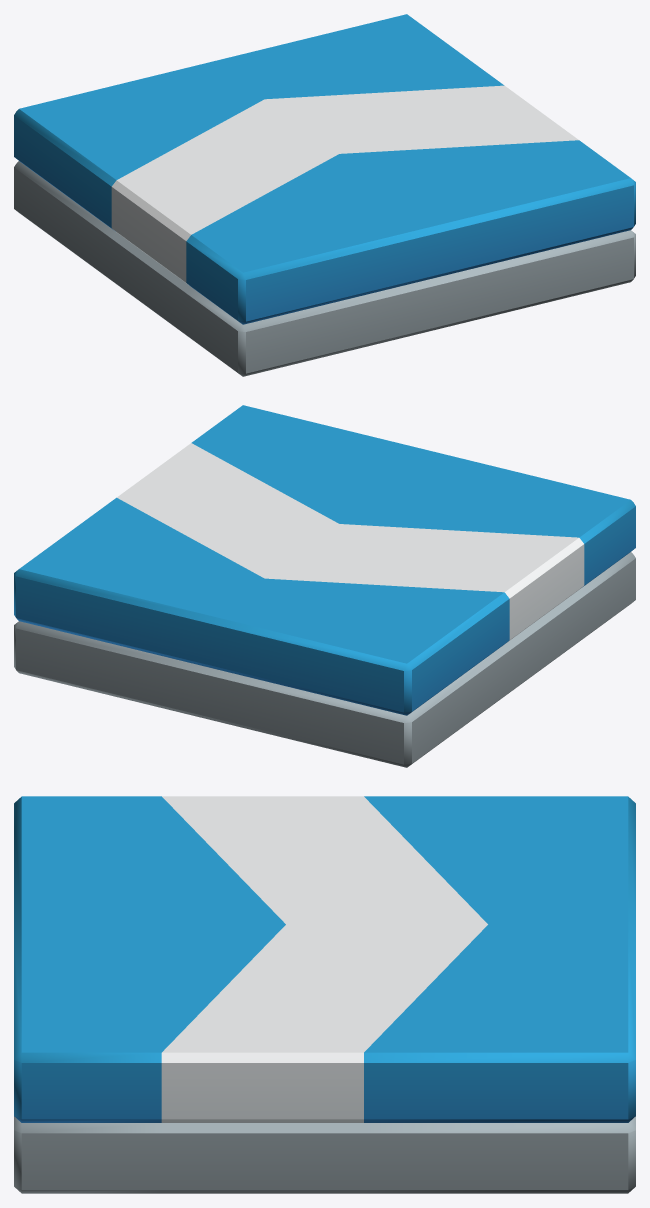
The model's file is platform_arrow_4x4x1_blue.glb.
The picture shows the model from 3 angles, top to bottom: view 1: azimuth 30°, elevation 25°; view 2: azimuth 150°, elevation 25°; view 3: azimuth 270°, elevation 25°; orthographic projection. The views are drawn at different scales.
Parts seen in each view (by area): view 1: platform_arrow_4x4x1_blue; view 2: platform_arrow_4x4x1_blue; view 3: platform_arrow_4x4x1_blue.
Part boxes in pixels (x1=…): platform_arrow_4x4x1_blue: x1=14, y1=14, x2=635, y2=376; platform_arrow_4x4x1_blue: x1=14, y1=405, x2=635, y2=767; platform_arrow_4x4x1_blue: x1=14, y1=796, x2=635, y2=1193.
Bounding box in the file's own units: 4 × 1 × 4.
Materials: 1 (1 with a texture image).
